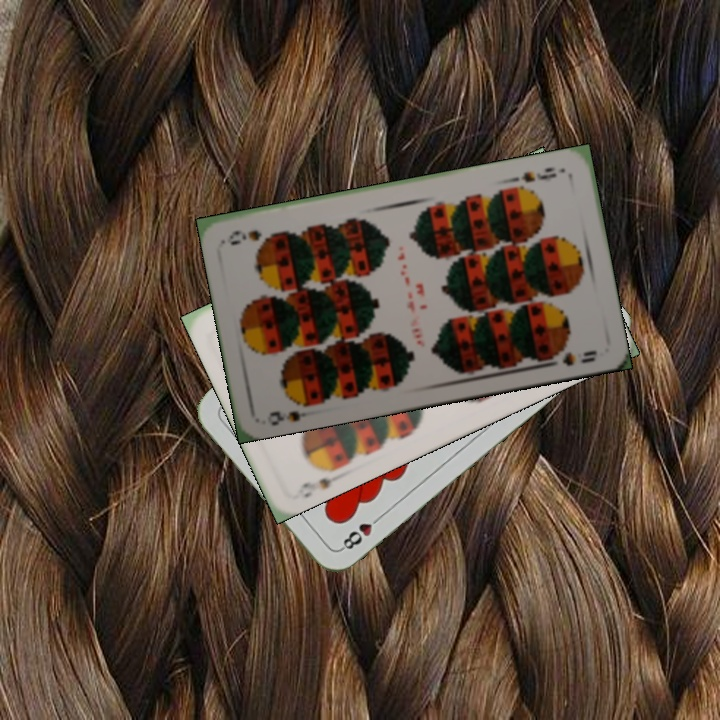H8: (336, 510, 385, 553)
S9: (292, 468, 348, 501), (265, 394, 317, 428), (517, 163, 559, 185)
